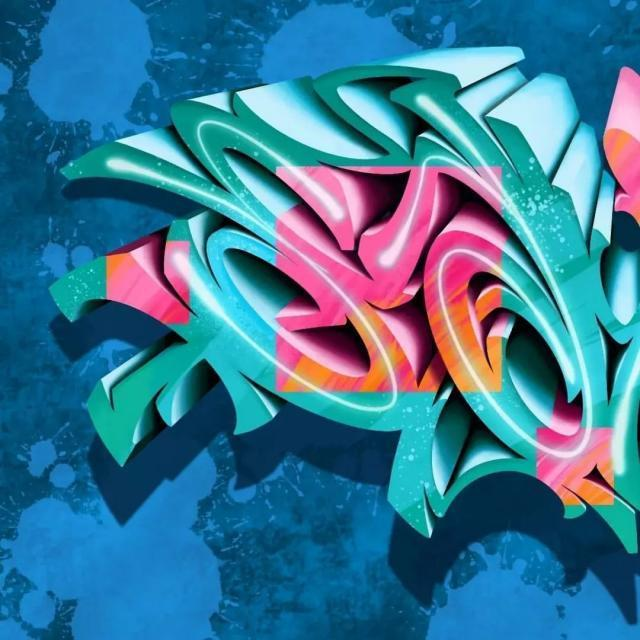-: (6, 42, 640, 630)
